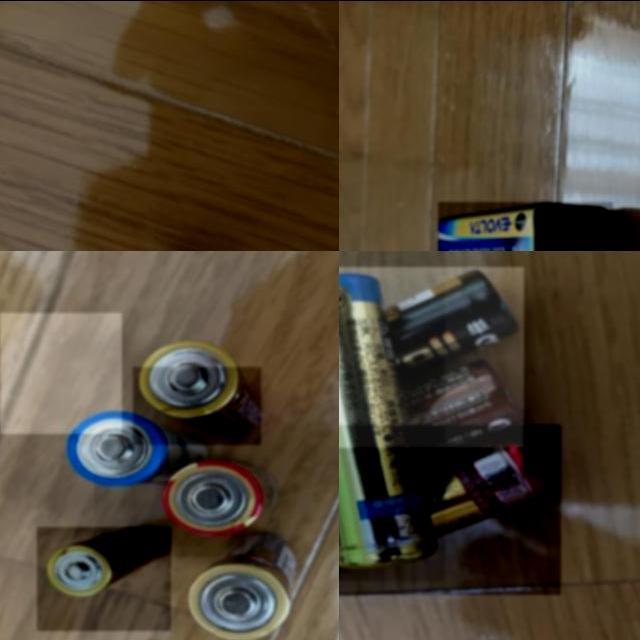9V: (438, 201, 613, 250)
